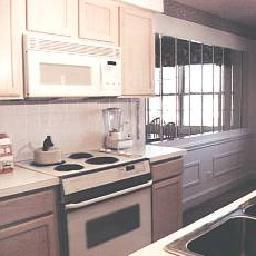Electrodomestico: (62, 172, 152, 251), (164, 193, 254, 255)
